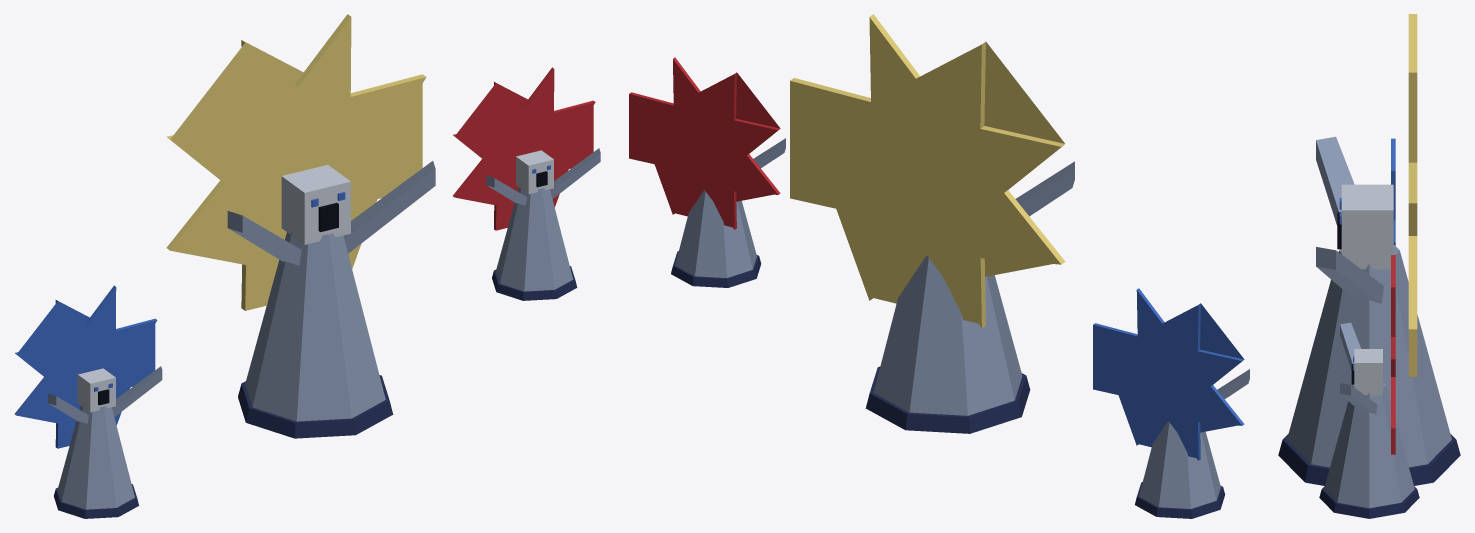
The model's file is StarChoirEcho_uv.glb.
3 renders of one model, left to right at view 1: azimuth 30°, elevation 25°; view 2: azimuth 150°, elevation 25°; view 3: azimuth 270°, elevation 25°, orthographic. The views are drawn at different scales.
Parts seen in each view (by area): view 1: StarChoirEcho; view 2: StarChoirEcho; view 3: StarChoirEcho.
Part boxes in pixels (bbox=[...]): StarChoirEcho: bbox=[14, 14, 600, 518]; StarChoirEcho: bbox=[629, 14, 1249, 518]; StarChoirEcho: bbox=[1278, 14, 1460, 518].
Size of the model in its own units: 8.72 by 5.83 by 2.1.
Materials: 1 (1 with a texture image).
